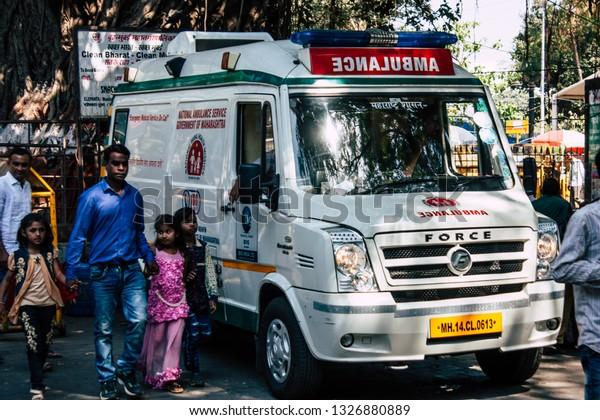ER: (105, 29, 562, 394)
